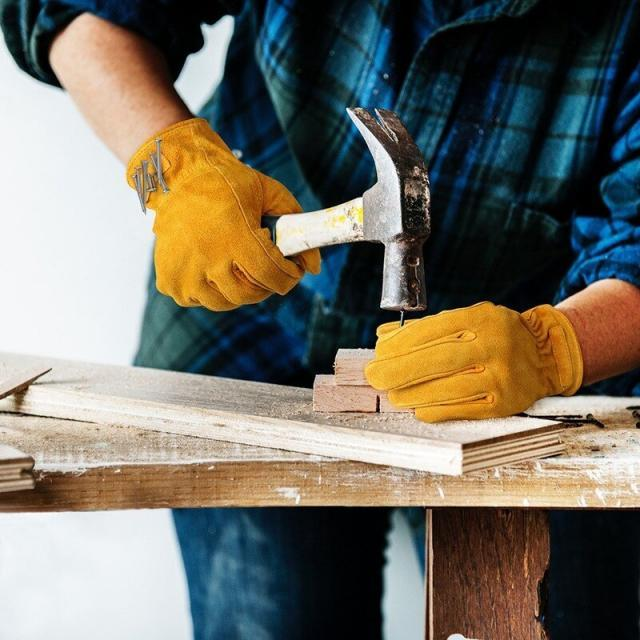gloves: (116, 118, 332, 316), (367, 294, 593, 427)
